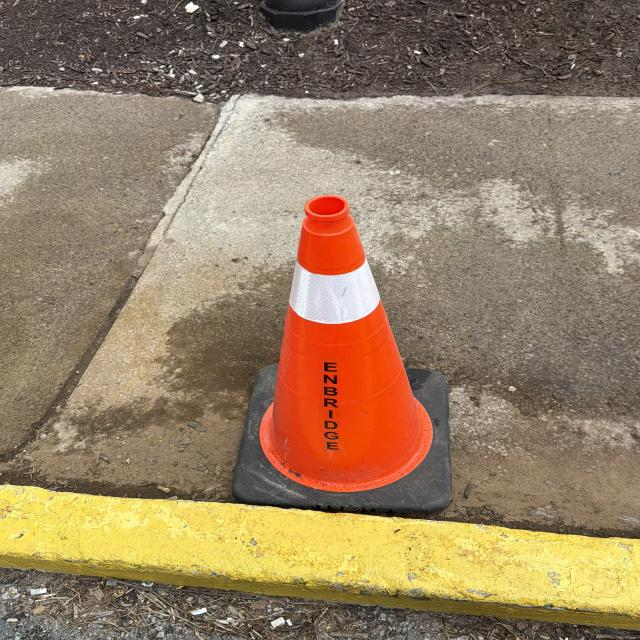Traffic Cone: (227, 195, 452, 516)
